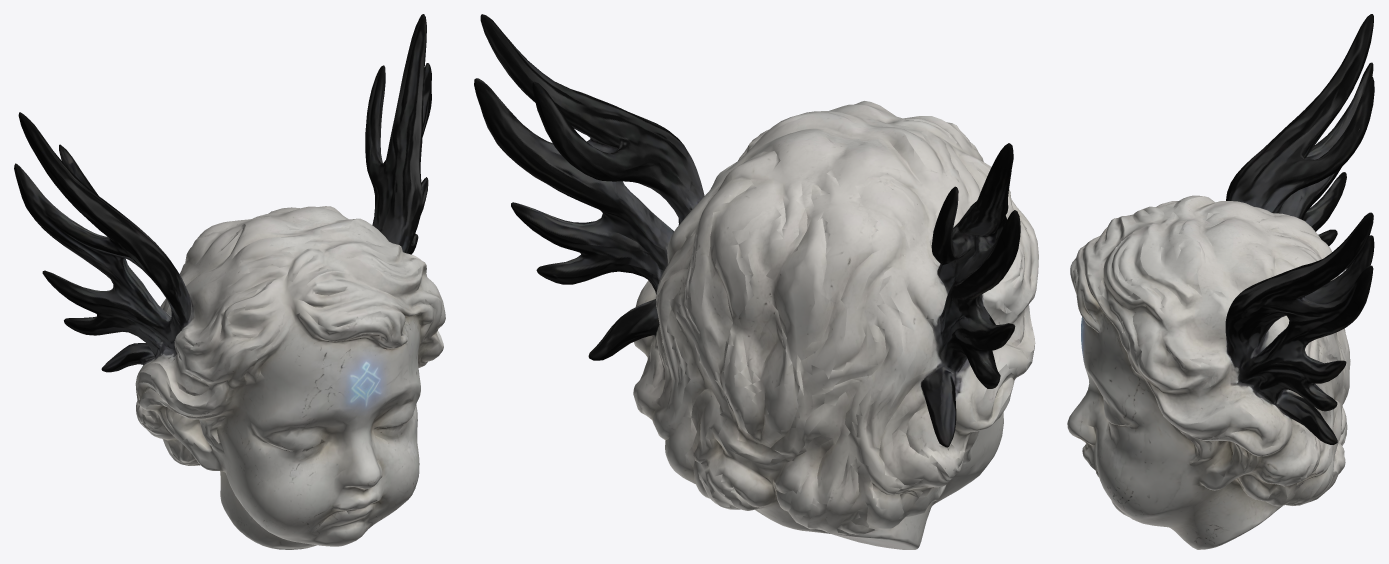
The model's file is pack.glb.
3 views of the same model, side by side, from view 1: azimuth 30°, elevation 25°; view 2: azimuth 150°, elevation 25°; view 3: azimuth 270°, elevation 25° (orthographic). The views are drawn at different scales.
Visible parts, largest first — view 1: Mesh; view 2: Mesh; view 3: Mesh.
Boxes of the visible parts, left/top/right/bottom form: Mesh: left=14, top=14, right=445, bottom=549; Mesh: left=474, top=14, right=1038, bottom=549; Mesh: left=1067, top=14, right=1374, bottom=549.
Size of the model in its own units: 1.88 by 1.82 by 1.19.
Materials: 1 (1 with a texture image).
